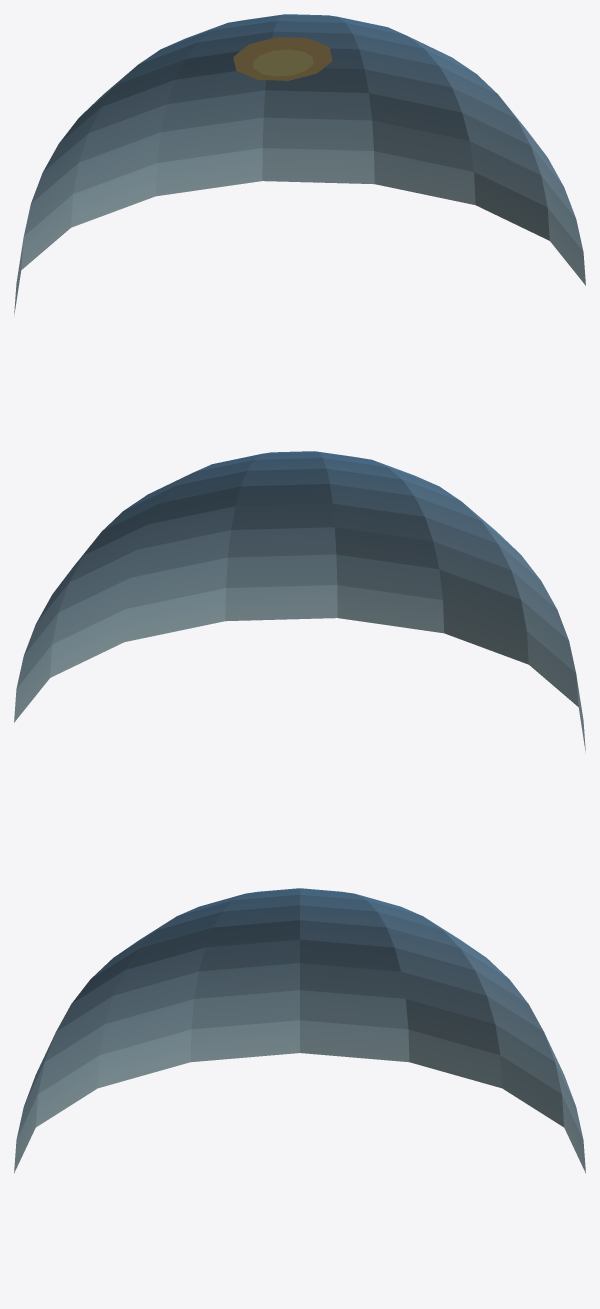
File: day-dome.glb
3 views of the same model, one above another, from view 1: azimuth 30°, elevation 25°; view 2: azimuth 150°, elevation 25°; view 3: azimuth 270°, elevation 25° (orthographic).
Parts seen in each view (by area): view 1: day_dome; view 2: day_dome; view 3: day_dome.
Boxes of the visible parts, x1=… form: day_dome: x1=14, y1=14, x2=585, y2=316; day_dome: x1=14, y1=451, x2=585, y2=753; day_dome: x1=14, y1=888, x2=585, y2=1173.
Size of the model in its own units: 5.2 by 2.6 by 5.2.
